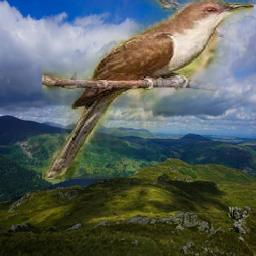Cuckoo: (42, 0, 254, 179)
